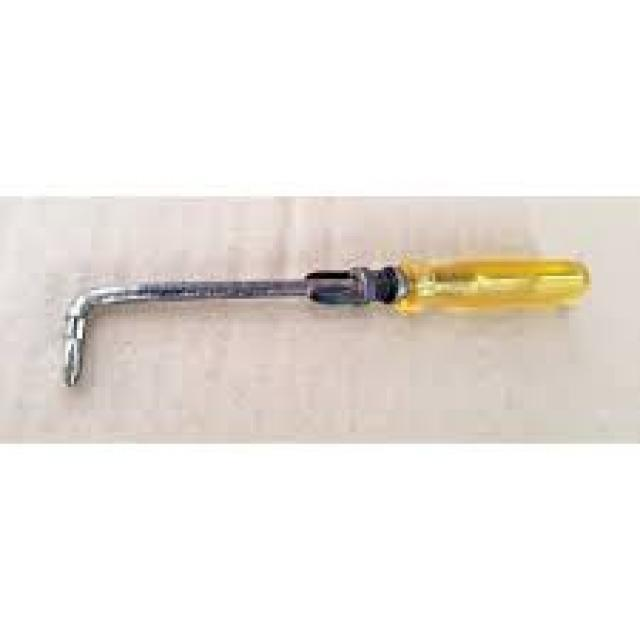screwdriver: (63, 250, 592, 390)
